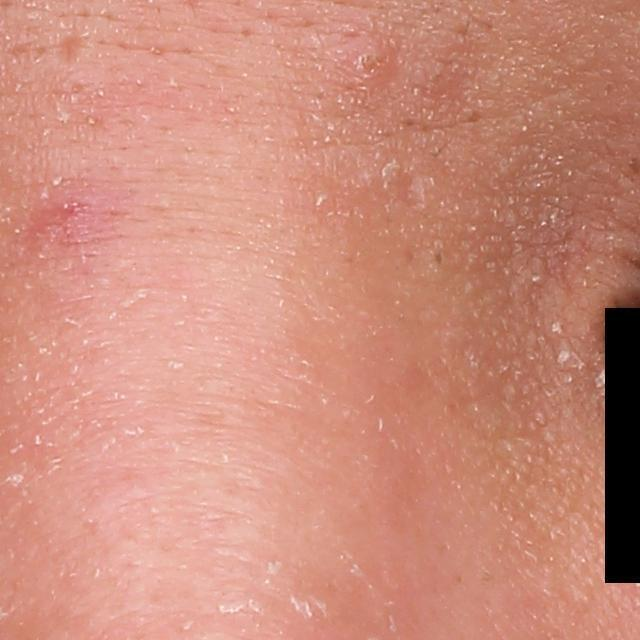atrophic_scar: (56, 29, 90, 63)
comedo: (428, 252, 447, 270)
papule: (341, 37, 393, 87)
